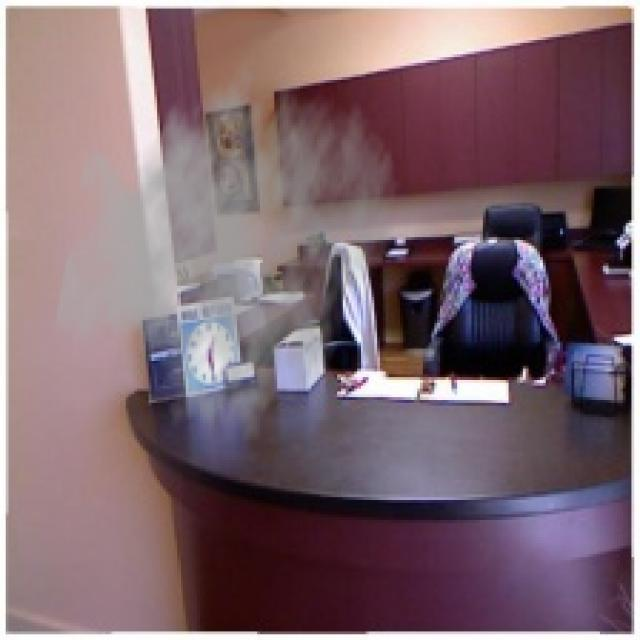Smoke: (51, 40, 400, 446)
